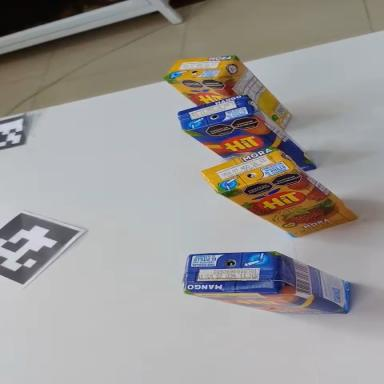HIT-MANGO: (170, 69, 328, 201), (180, 240, 354, 321)
HIT-MORA: (196, 120, 365, 260), (159, 36, 302, 133)
cara_F: (184, 87, 317, 213), (217, 155, 358, 255), (185, 293, 348, 314), (164, 77, 238, 106)
